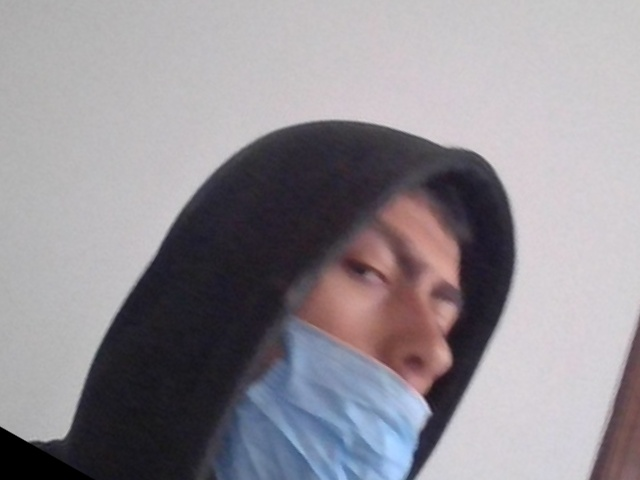mask_weared_incorrect: (235, 145, 492, 480)
